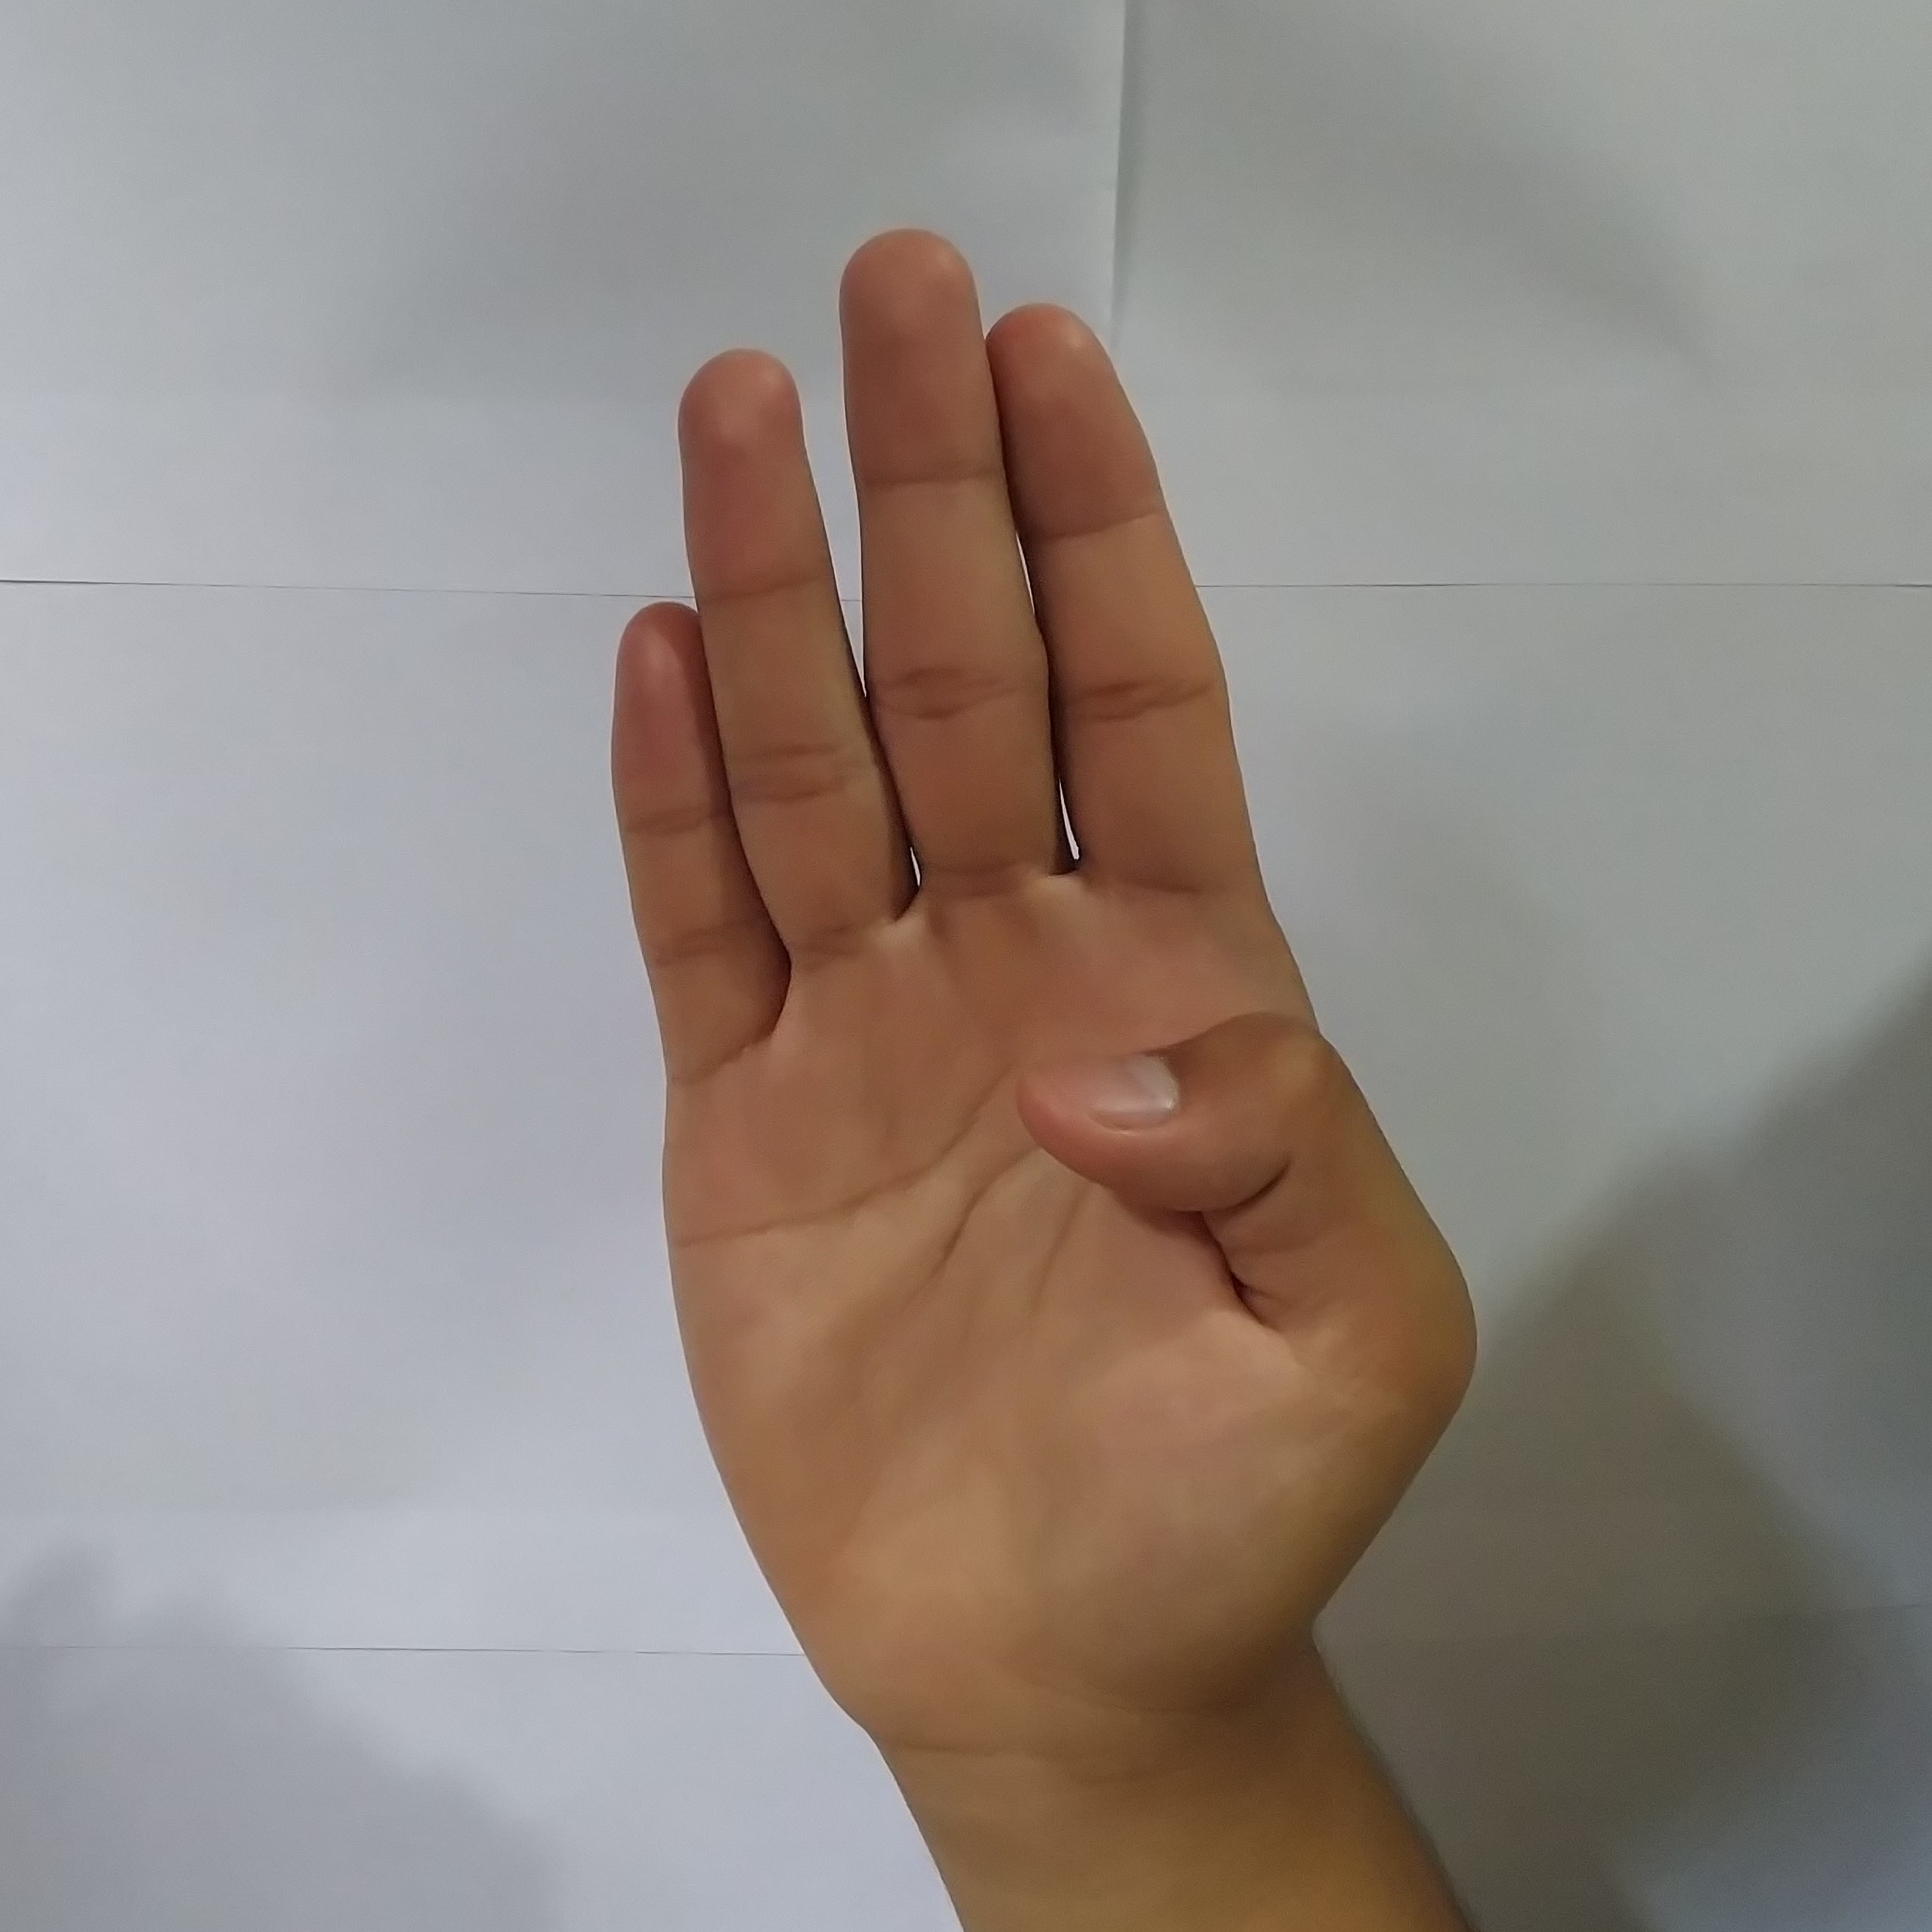B: (589, 207, 1495, 1690)
